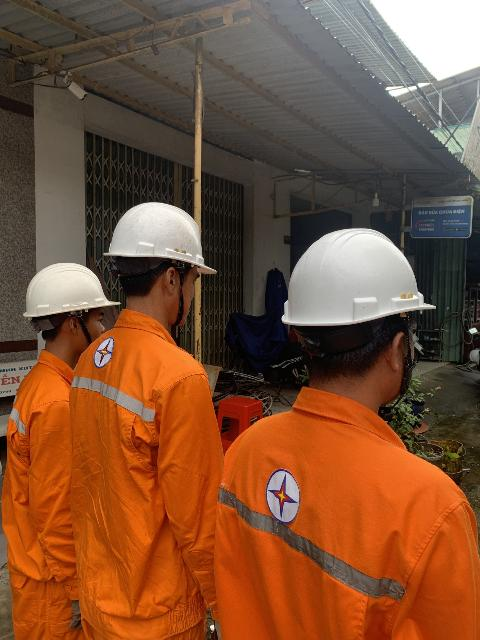helmet: (273, 218, 448, 335), (101, 181, 217, 280), (11, 247, 120, 322)
